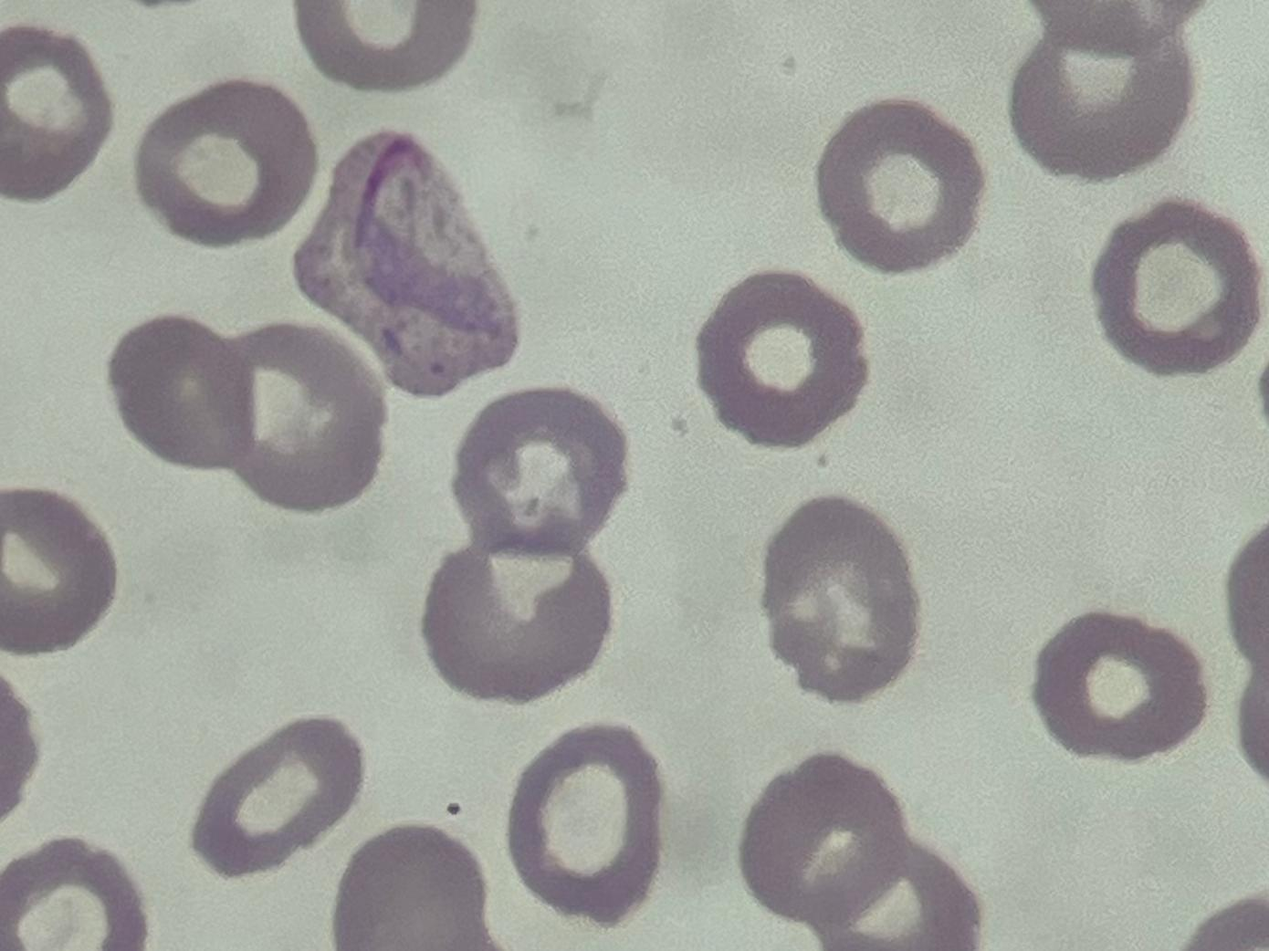Infected: (292, 128, 523, 401)
Uninfected: (203, 322, 389, 515), (764, 496, 919, 702), (509, 723, 665, 927), (1010, 4, 1192, 177), (696, 272, 869, 451), (425, 539, 612, 700), (451, 389, 624, 563), (813, 99, 982, 274), (139, 81, 316, 247), (1090, 201, 1257, 376), (190, 714, 364, 880), (739, 751, 907, 921), (1033, 608, 1207, 759), (106, 318, 256, 471), (330, 824, 487, 951), (0, 488, 114, 657), (0, 30, 110, 204), (288, 0, 478, 95), (818, 842, 982, 951), (0, 835, 148, 951)
